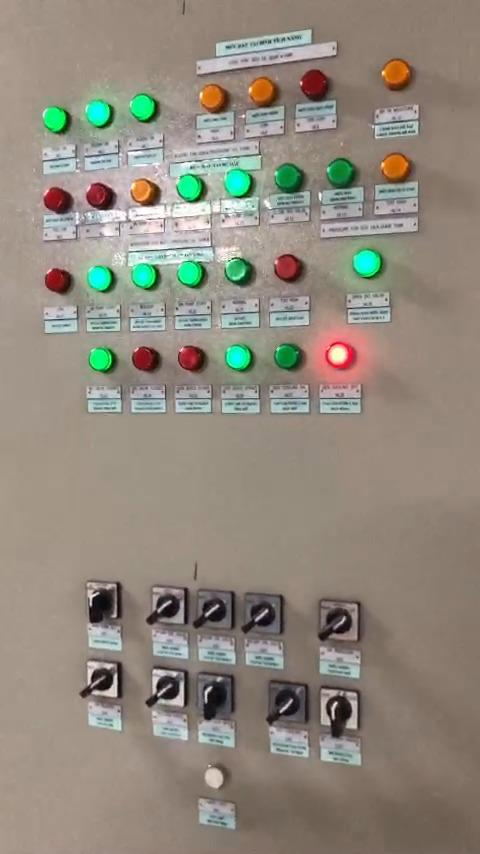led: (275, 340, 310, 375), (380, 58, 416, 92), (377, 153, 413, 186), (350, 246, 384, 279), (325, 341, 359, 373), (175, 344, 209, 375), (129, 91, 160, 124), (275, 165, 306, 198), (273, 252, 304, 285), (227, 256, 258, 288), (177, 260, 208, 291), (302, 68, 333, 99), (178, 174, 210, 204), (248, 79, 281, 108), (39, 104, 68, 135), (329, 159, 360, 188), (86, 181, 117, 210), (89, 346, 117, 378), (223, 168, 256, 195), (133, 346, 164, 374), (84, 101, 113, 130), (45, 268, 74, 296), (198, 84, 226, 113), (132, 179, 159, 209), (43, 186, 73, 213), (227, 344, 254, 374), (132, 264, 159, 291), (88, 265, 113, 294), (204, 765, 229, 794)
twist: (318, 598, 363, 646), (318, 684, 361, 734), (82, 579, 122, 625), (245, 591, 284, 638), (270, 681, 306, 727), (149, 586, 186, 630), (83, 659, 122, 700), (198, 674, 233, 719), (198, 591, 234, 630), (149, 667, 181, 708)
